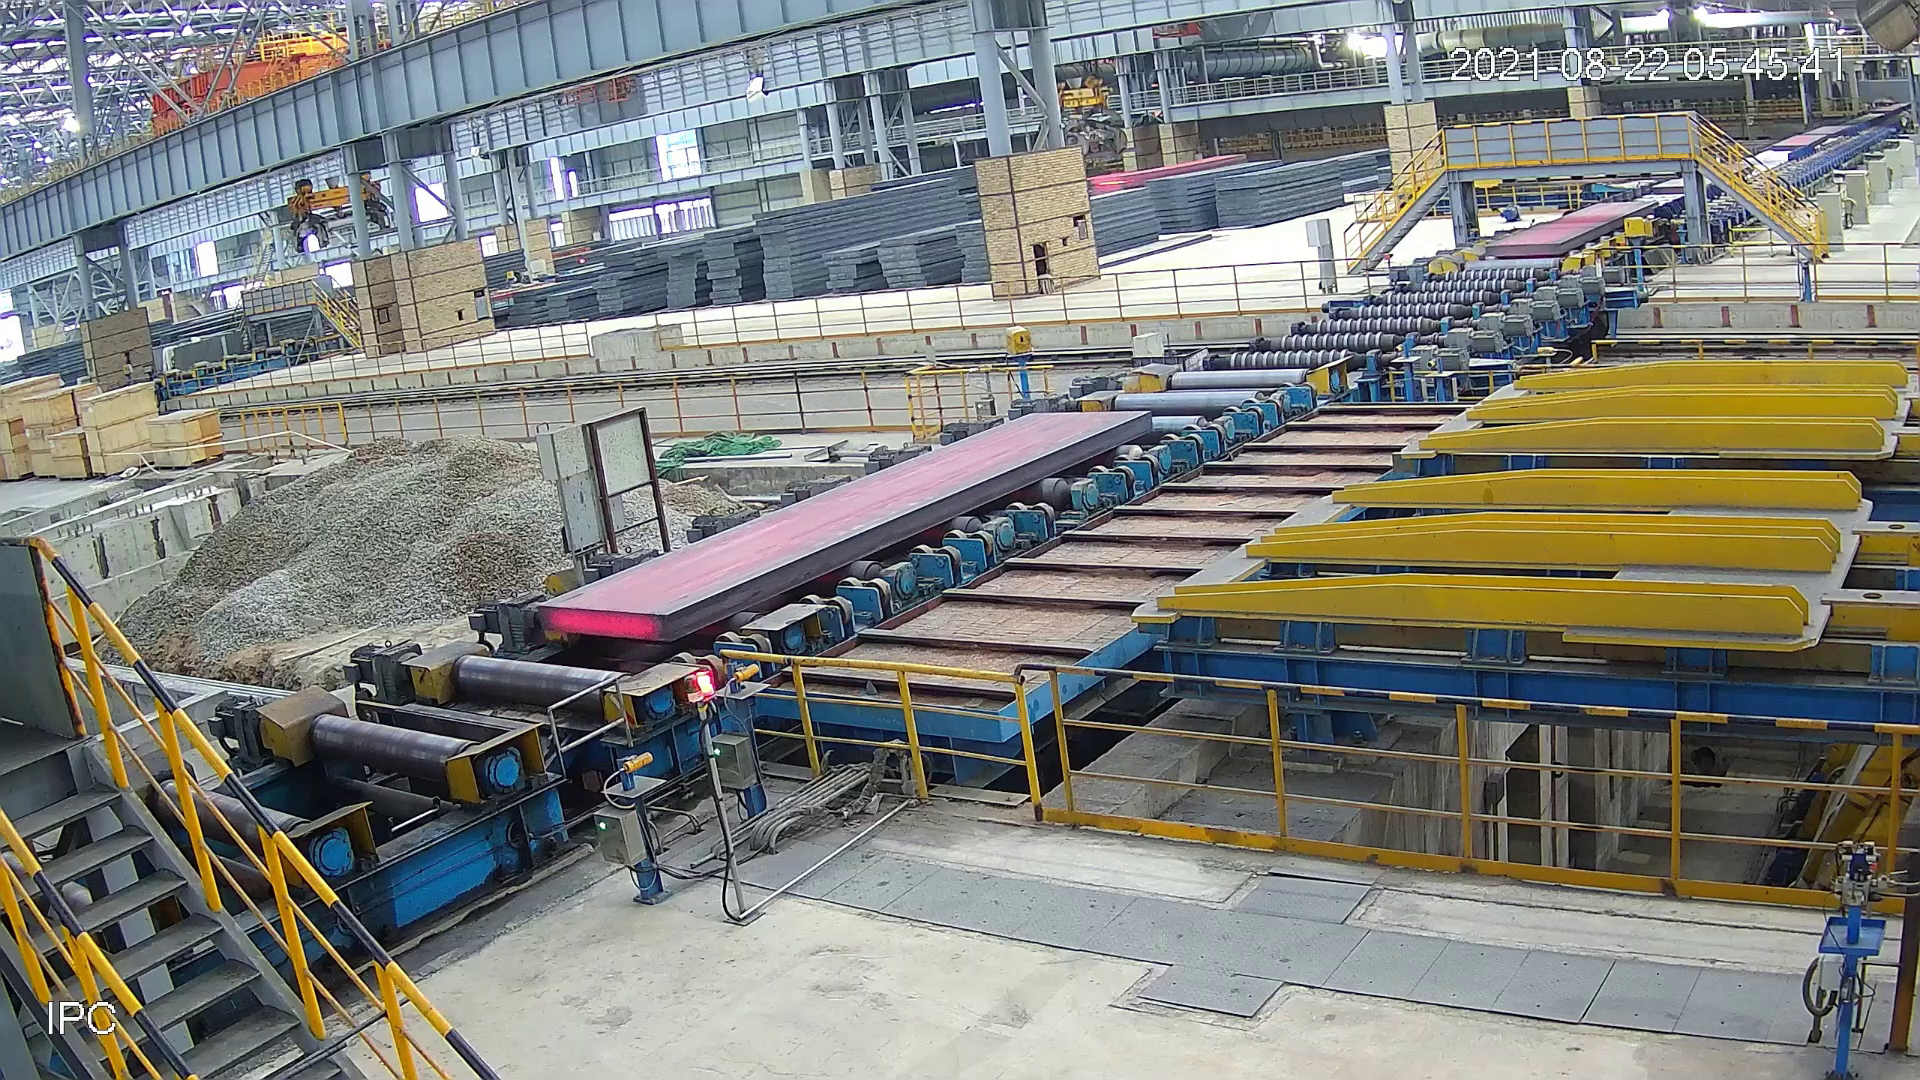slab: (533, 404, 1158, 649), (1481, 193, 1663, 257)
